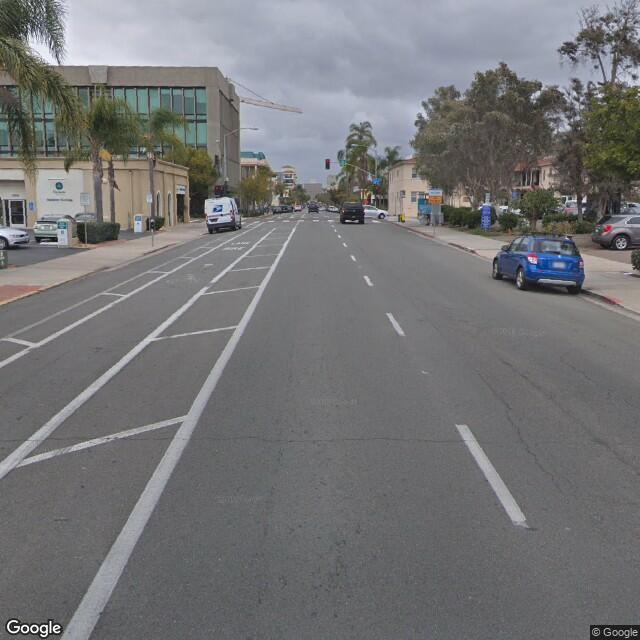road line: (1, 275, 263, 492), (357, 254, 417, 351)
